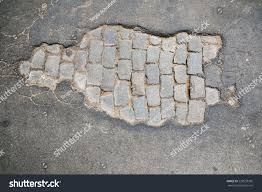pothole: (20, 19, 236, 134)
